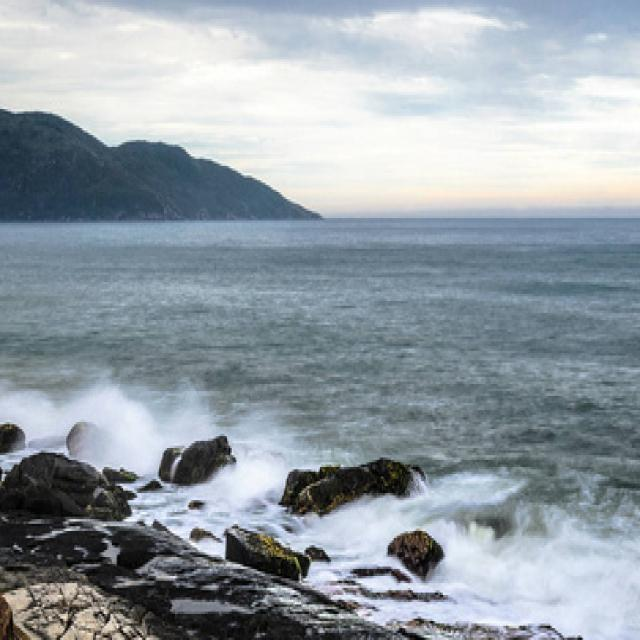island: (0, 75, 327, 227)
